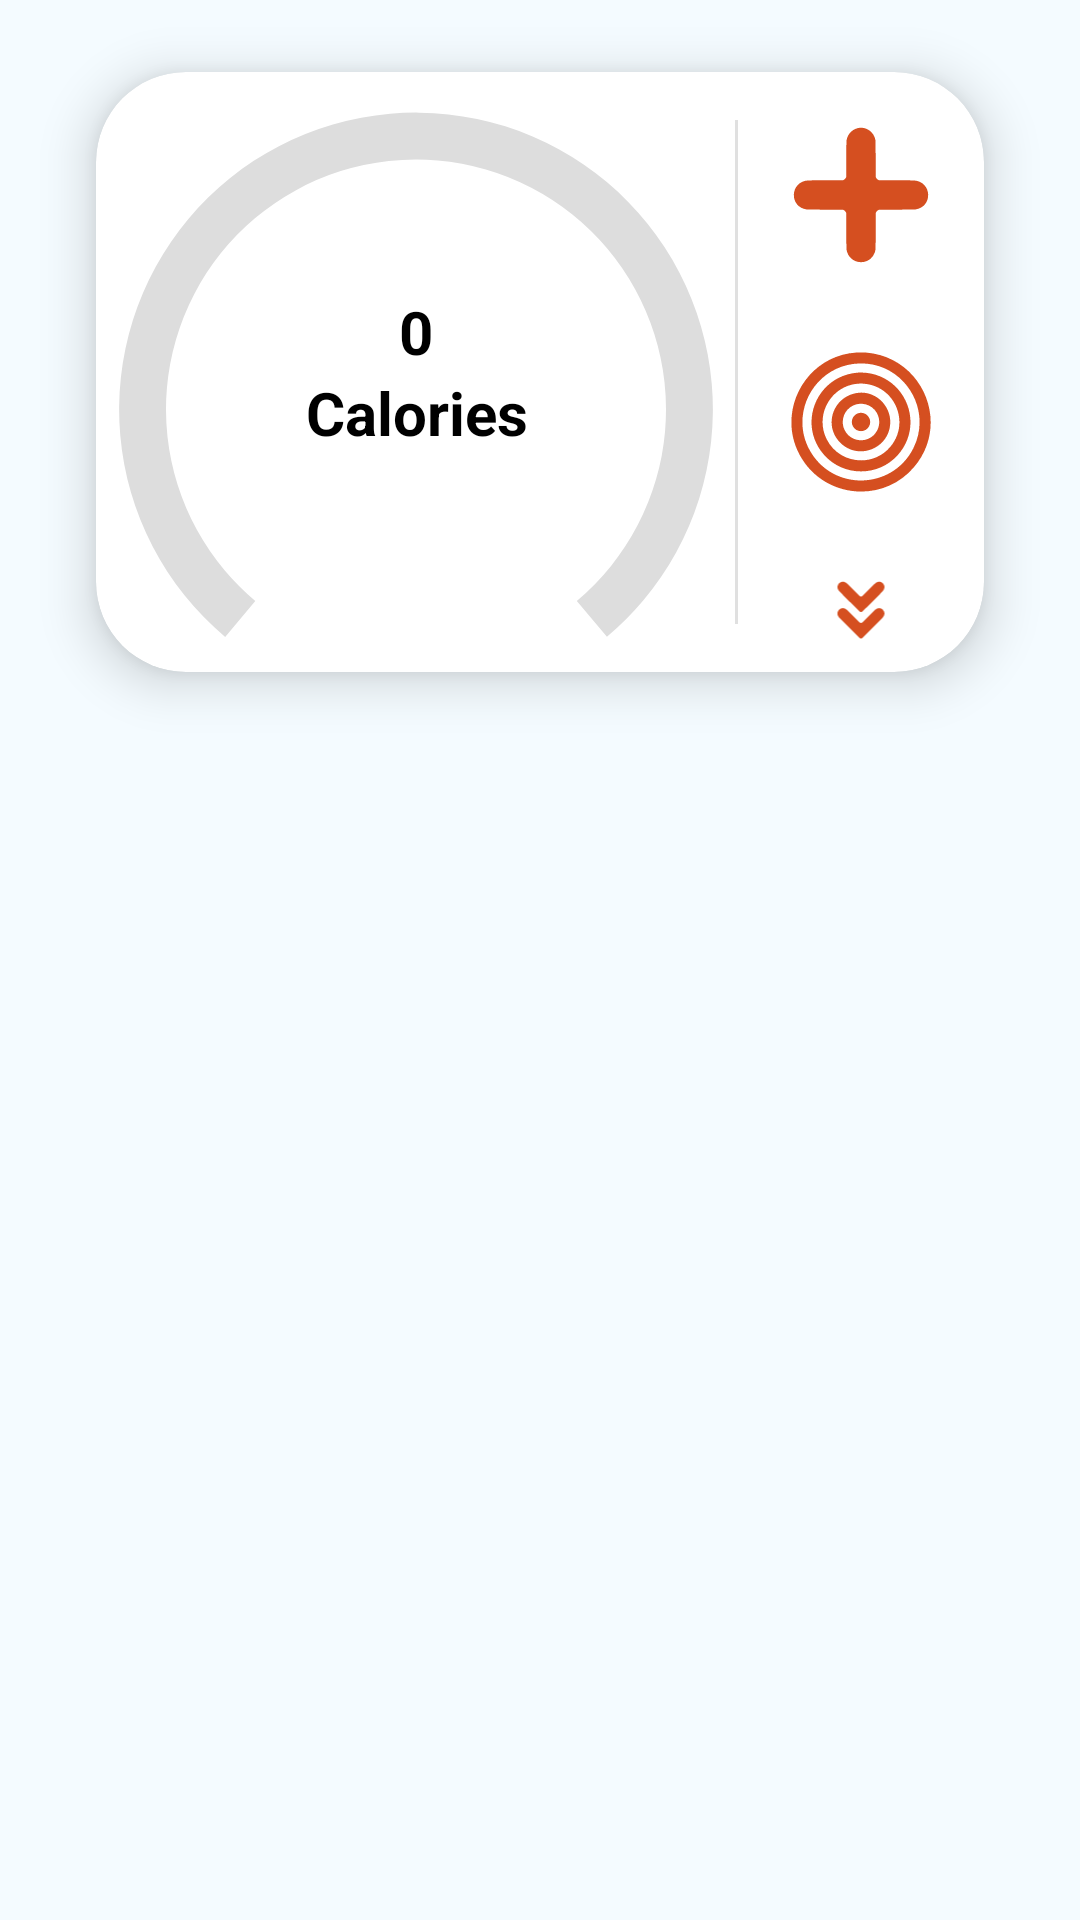

Icon bounding boxes for this 1080×1920 phone screenshot, format [x1, y1, x2, y2]:
Add food item: [793, 127, 929, 263]
expand: [837, 581, 885, 639]
